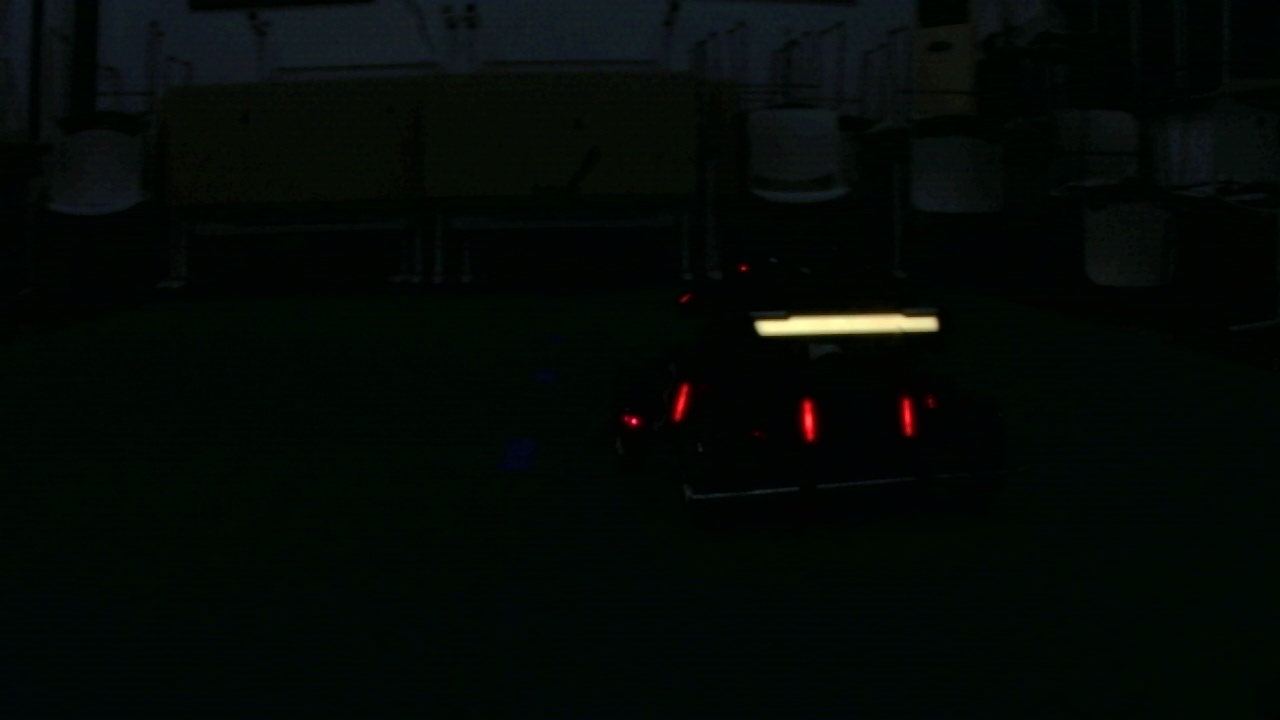lamp: (797, 394, 819, 449), (674, 375, 689, 420), (902, 395, 916, 437)
notpair1: (674, 378, 818, 448)
pair1: (799, 397, 920, 449)
